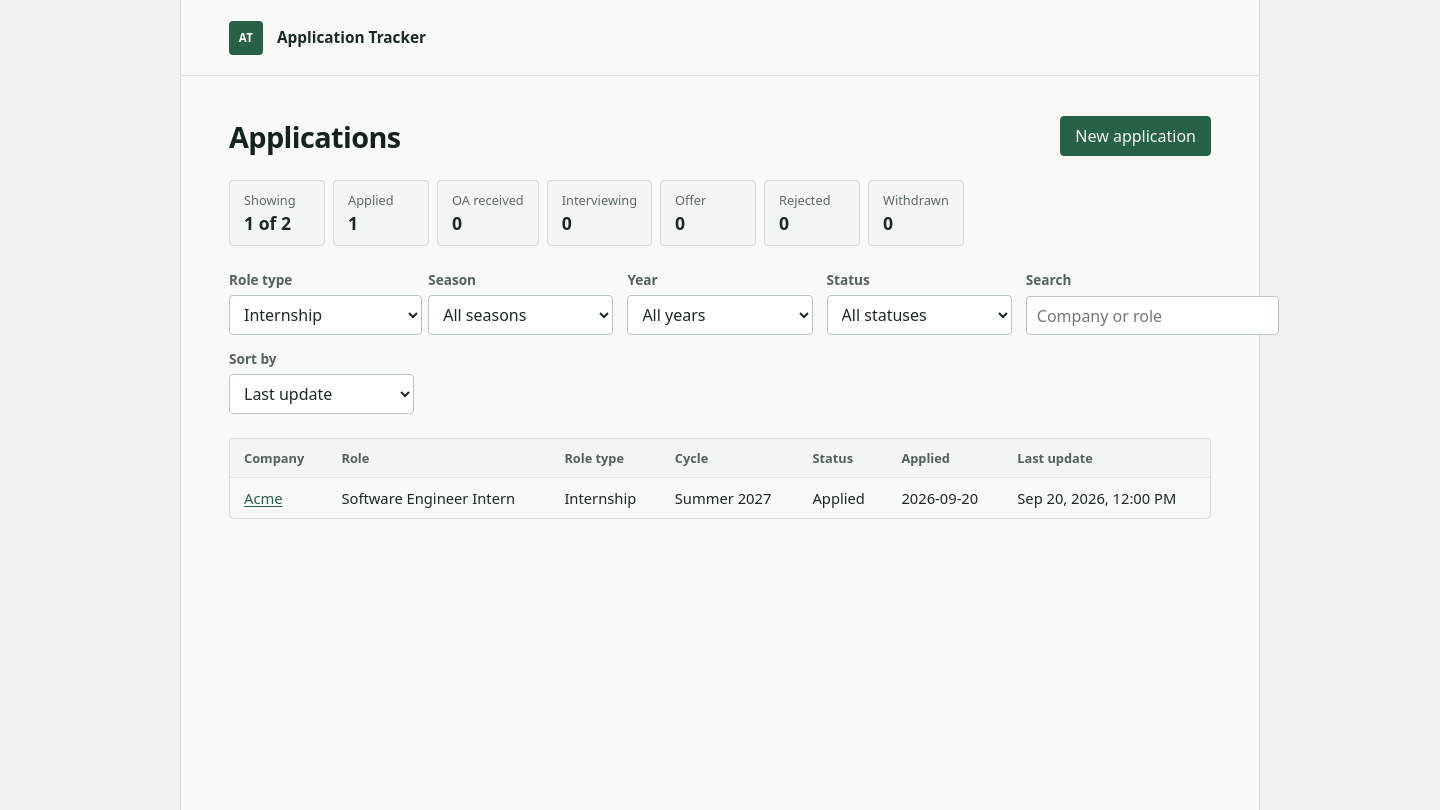
it: filters, searches, and explains empty results
The image size is (1440, 810).
Expected: the button "Acme" is shown, [244, 488, 282, 508]
Select "All role types" in the dropdown labelled "Role type". click: (326, 315)
box: [229, 295, 422, 335]
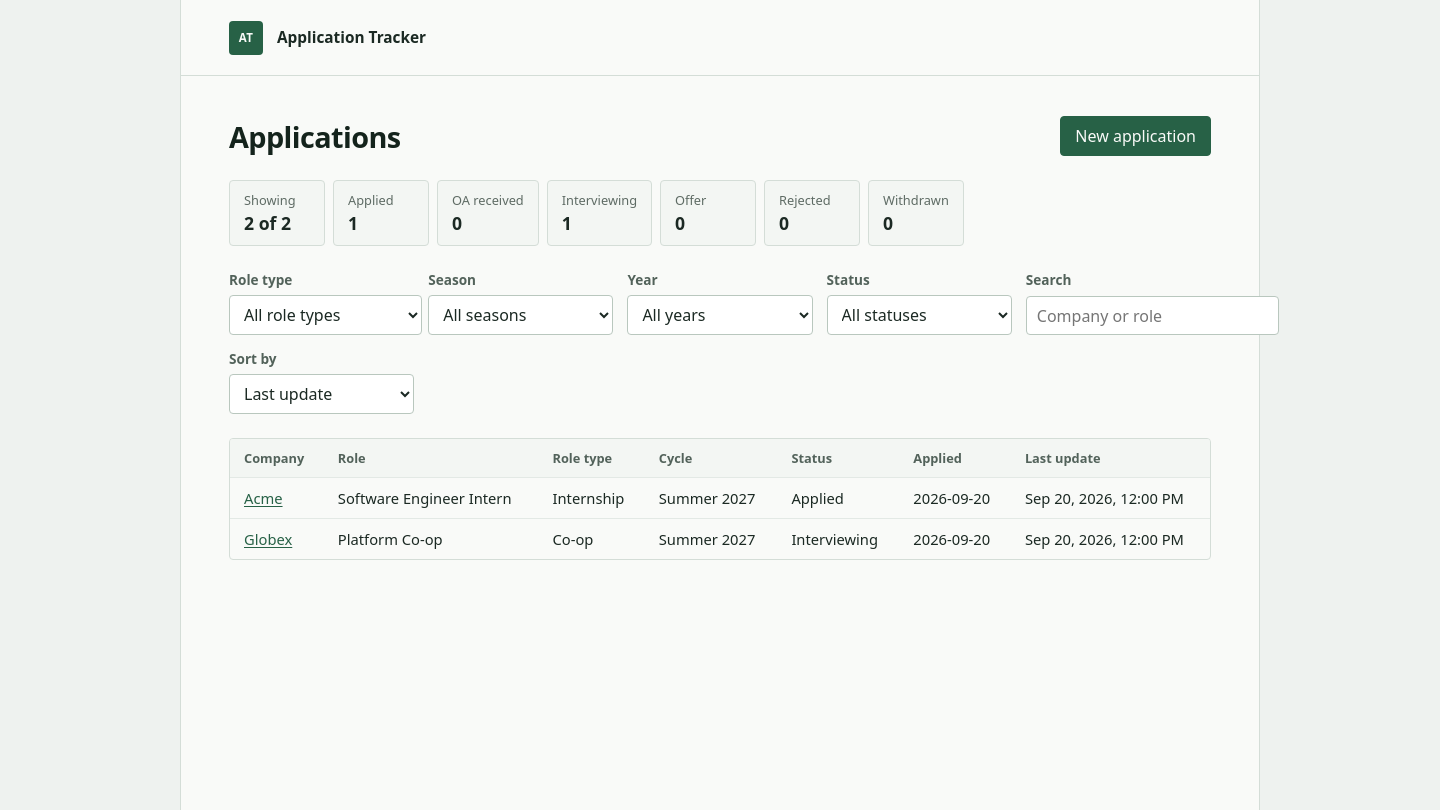
Result: the button "Globex" is shown at [244, 529, 292, 549]
Type "platform" into the search field labelled "Search". click: (1152, 316)
box: [1026, 296, 1279, 335]
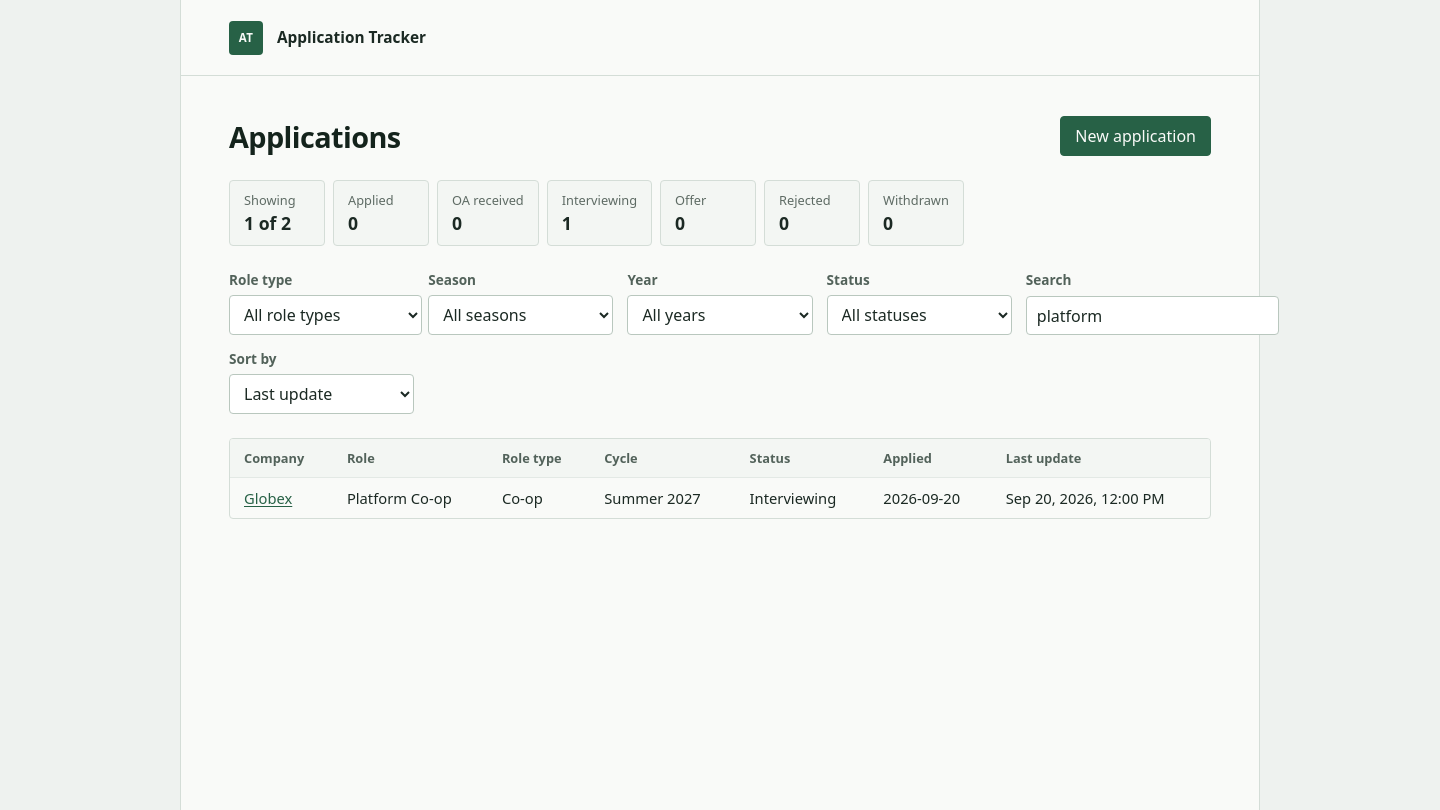
Result: the button "Globex" is shown at [244, 488, 292, 508]
Result: the button "Acme" is gone
Replace the text in the search field labelled "Search" with "no such company". click: (1152, 316)
box: [1026, 296, 1279, 335]
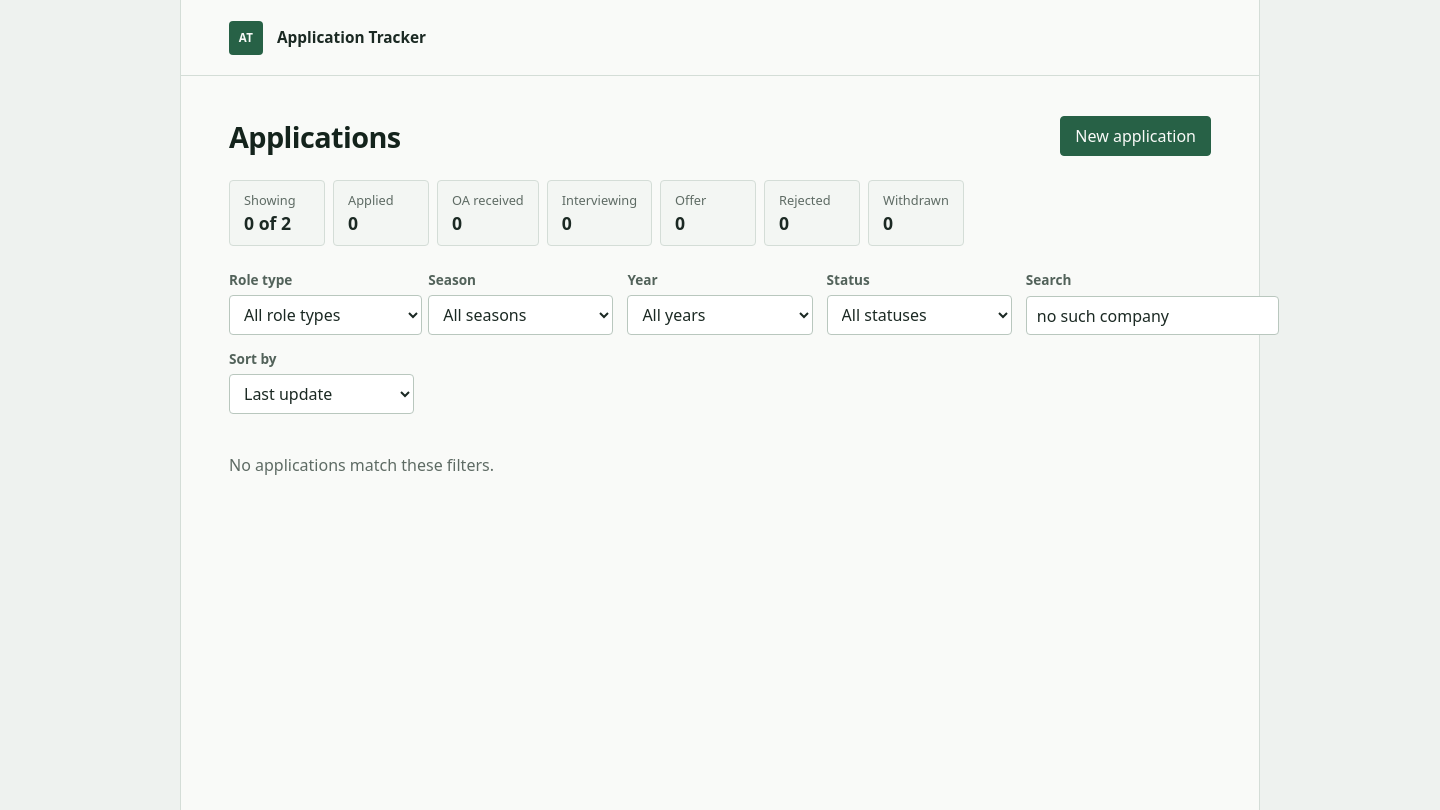
Result: the text "No applications match these filters." is shown at [229, 454, 494, 476]
